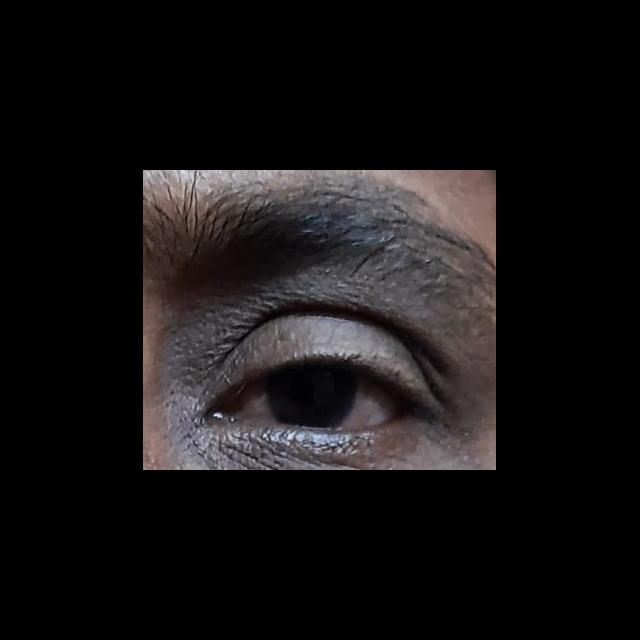eye: (236, 363, 401, 431)
iris: (267, 367, 361, 429)
